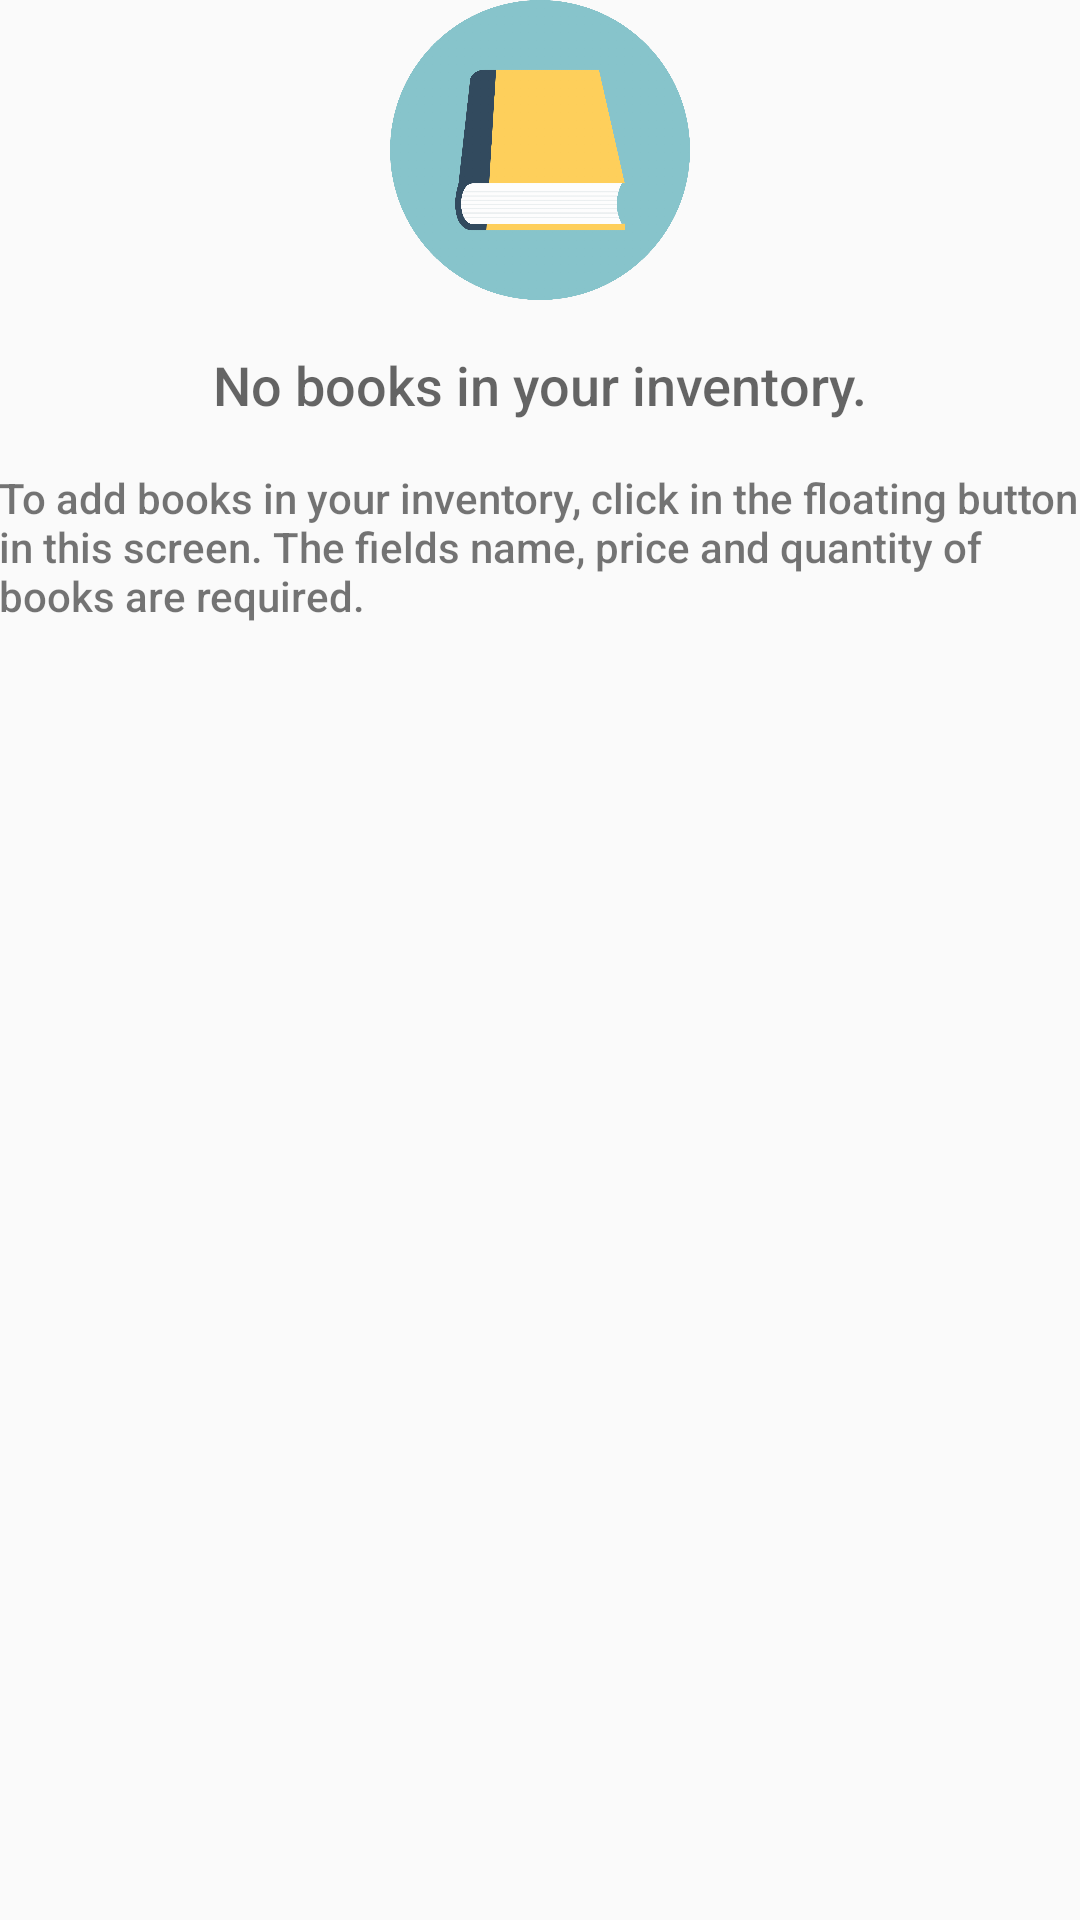

Named icons in this screenshot (1080px×1920px) and their centers, [x,y]:
closed book: [540,150]
